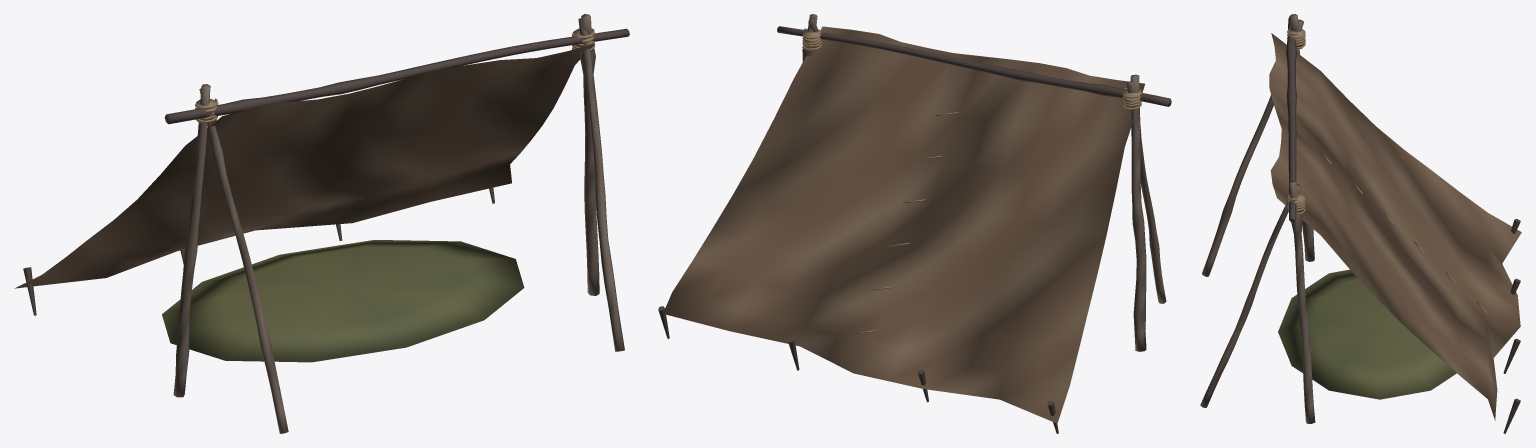
File: camp_hide_lean_to.glb
3 views of the same model, side by side, from view 1: azimuth 30°, elevation 25°; view 2: azimuth 150°, elevation 25°; view 3: azimuth 270°, elevation 25° (orthographic). The views are drawn at different scales.
Visible parts, largest first — view 1: camp_hide_lean_to; view 2: camp_hide_lean_to; view 3: camp_hide_lean_to.
Part boxes in pixels (x1,y1,x2,y2): camp_hide_lean_to: (14, 14, 629, 433); camp_hide_lean_to: (658, 14, 1171, 433); camp_hide_lean_to: (1200, 14, 1521, 433).
Size of what is drawn, in the model's own units: 2.3 by 1.44 by 1.66.
